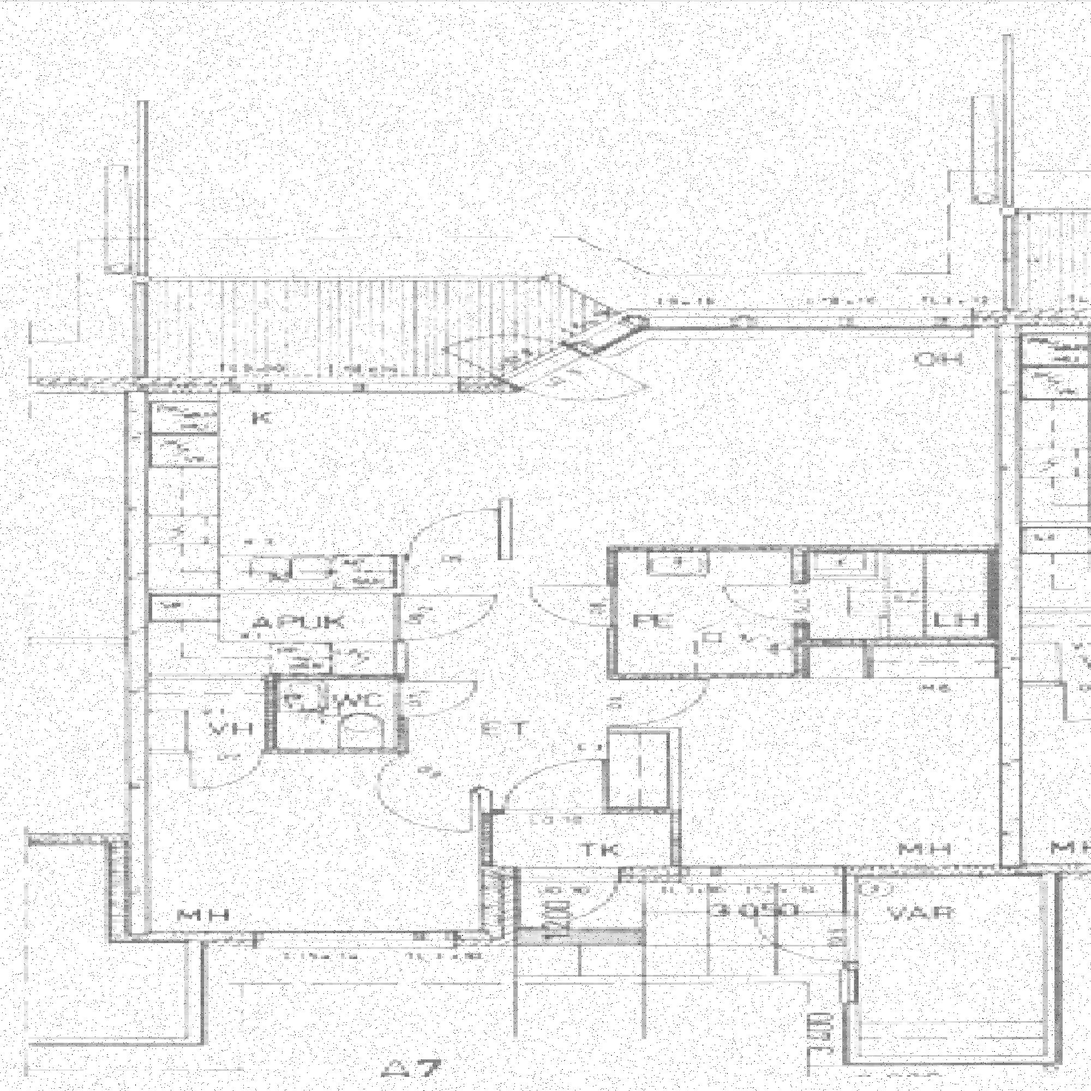wall: (126, 378, 148, 942), (495, 311, 645, 392), (126, 376, 514, 394), (626, 311, 1021, 328), (479, 866, 1021, 876), (1000, 311, 1021, 552), (186, 932, 515, 947), (1000, 646, 1021, 876), (390, 751, 491, 795), (134, 102, 148, 377), (1044, 864, 1061, 1065), (843, 866, 859, 1065), (987, 553, 1020, 646), (479, 866, 515, 947), (1000, 102, 1013, 311), (395, 555, 407, 755), (605, 545, 617, 733), (843, 1057, 1061, 1065), (126, 749, 407, 755), (126, 675, 407, 681), (126, 590, 407, 596), (792, 639, 1021, 646), (792, 546, 1021, 553), (792, 546, 806, 639), (605, 673, 807, 679), (480, 809, 681, 815), (605, 546, 791, 552), (669, 728, 681, 815), (265, 674, 276, 755), (479, 792, 491, 866), (669, 810, 681, 876), (396, 554, 511, 560), (500, 498, 511, 560), (126, 932, 186, 942), (792, 639, 806, 678), (1021, 864, 1061, 876), (605, 728, 682, 734)
